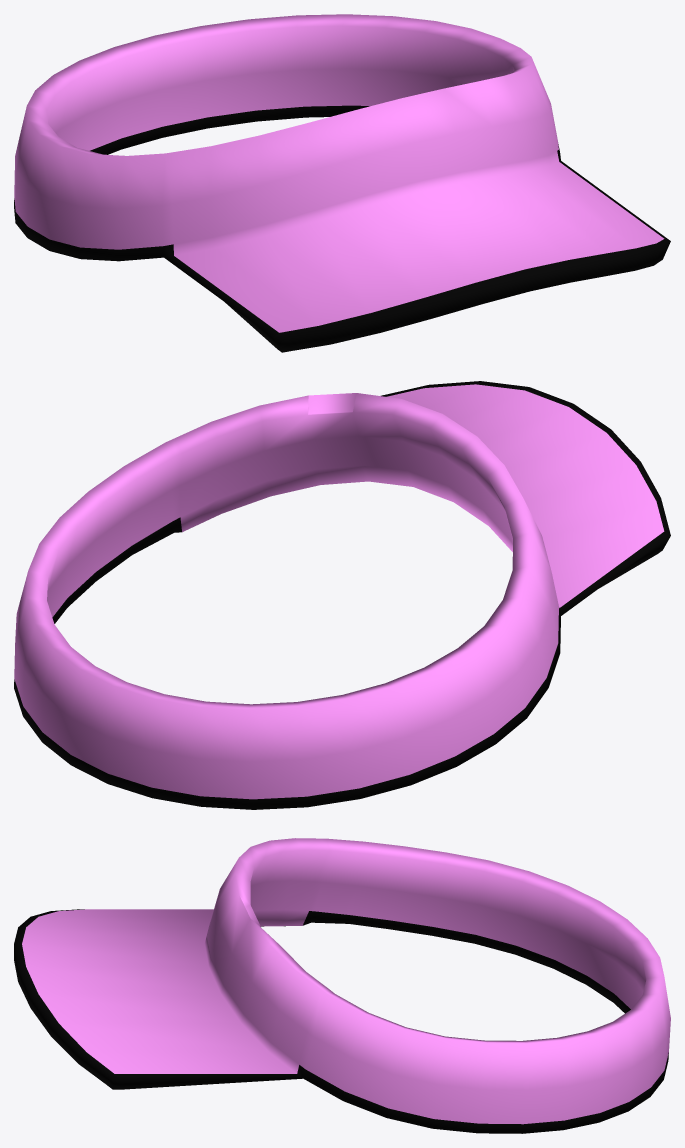
File: Visor.fbx
3 views of the same model, one above another, from view 1: azimuth 30°, elevation 25°; view 2: azimuth 150°, elevation 25°; view 3: azimuth 270°, elevation 25° (orthographic). The views are drawn at different scales.
Visible parts, largest first — view 1: Sphere.001; view 2: Sphere.001; view 3: Sphere.001.
Part boxes in pixels (x1=…): Sphere.001: x1=14, y1=14, x2=670, y2=352; Sphere.001: x1=14, y1=381, x2=670, y2=809; Sphere.001: x1=14, y1=838, x2=670, y2=1133.
Bounding box in the file's own units: 230 × 99.33 × 316.
